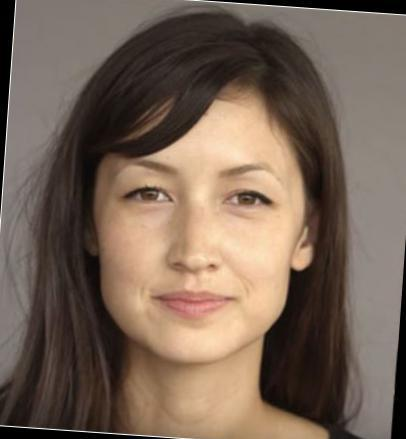Sober: (105, 107, 289, 342)
